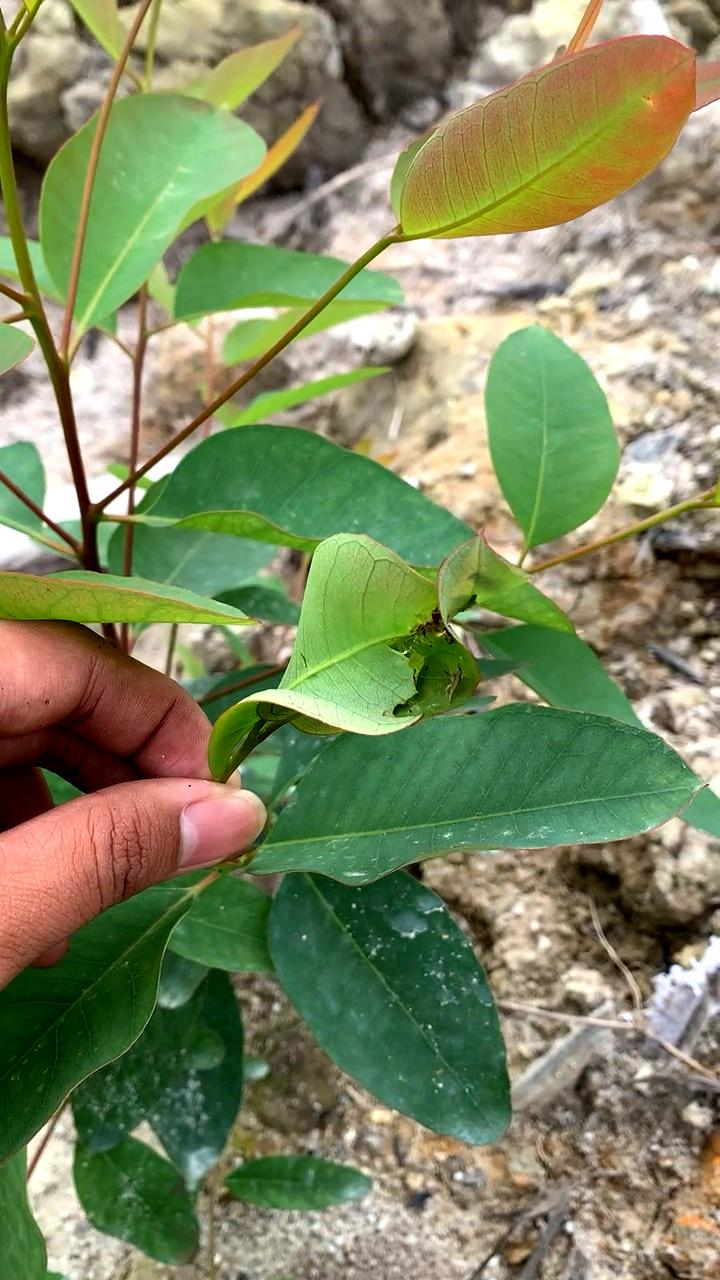Leaf Roller - Leaf: (197, 531, 526, 910)
